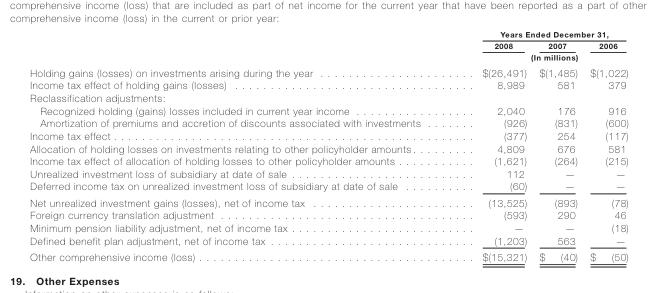table: (29, 29, 627, 262)
table column: (29, 29, 450, 262), (450, 29, 532, 262), (532, 29, 583, 262), (583, 29, 627, 262)
table column header: (29, 29, 627, 63)
table projected row header: (29, 91, 627, 103)
table row: (29, 63, 627, 78), (29, 179, 627, 194), (29, 233, 627, 248), (29, 194, 627, 208), (29, 248, 627, 262), (29, 50, 627, 63), (29, 78, 627, 91), (29, 103, 627, 116), (29, 116, 627, 129), (29, 141, 627, 154), (29, 166, 627, 179), (29, 208, 627, 221), (29, 91, 627, 103), (29, 129, 627, 141), (29, 154, 627, 166), (29, 221, 627, 233), (29, 39, 627, 50), (29, 29, 627, 39)
table spanning cell: (450, 50, 627, 63), (450, 29, 627, 39)
